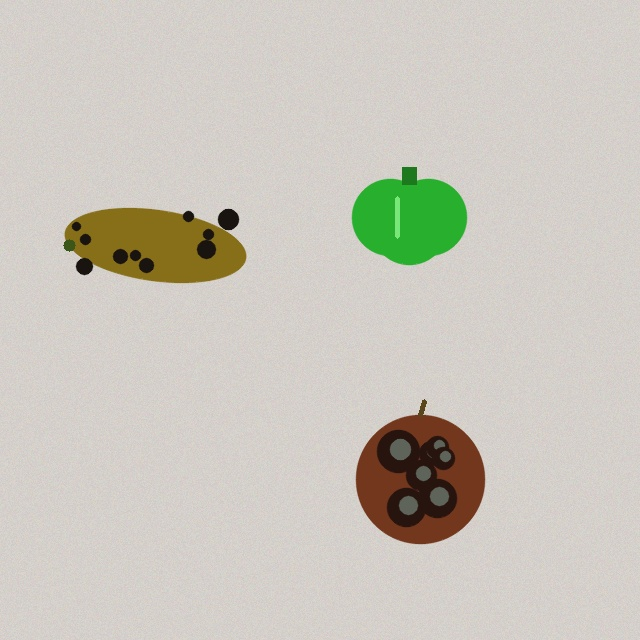Fresh bell pepper: (352, 167, 466, 264)
Rotten apple: (356, 401, 484, 543)
Rotten banana: (60, 202, 250, 288)
